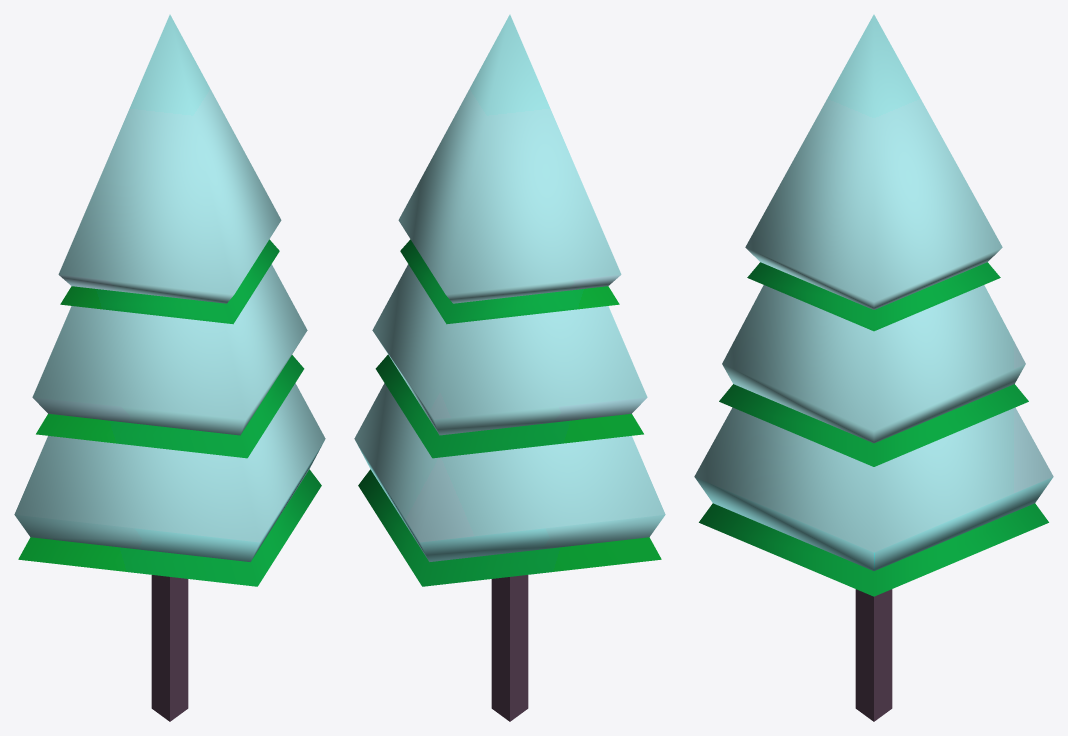
Rendered from Pine.fbx.
3 renders of one model, left to right at view 1: azimuth 30°, elevation 25°; view 2: azimuth 150°, elevation 25°; view 3: azimuth 270°, elevation 25°, orthographic.
Visible parts, largest first — view 1: Pine; view 2: Pine; view 3: Pine.
Part boxes in pixels (x1,y1,x2,y2): Pine: (14, 14, 325, 721); Pine: (354, 14, 665, 721); Pine: (694, 14, 1053, 721).
Bounding box in the file's own units: 2.23 × 4.79 × 2.23.
